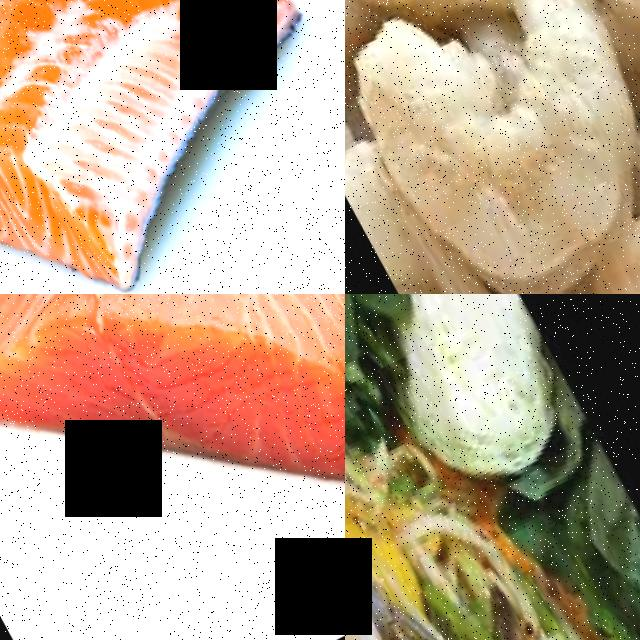salmon: (0, 294, 345, 640), (0, 0, 345, 294)
shrimp: (345, 0, 640, 294), (345, 488, 499, 640), (530, 173, 640, 294)
